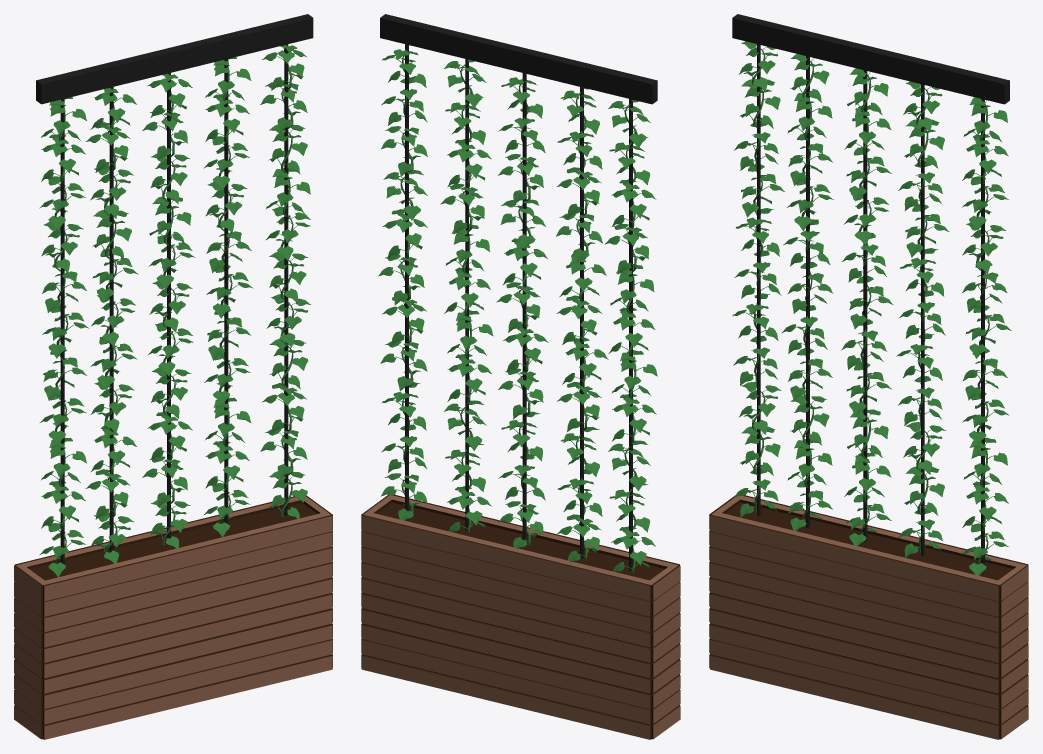
The model's file is LowVineWallDivider.fbx.
The picture shows the model from 3 angles, left to right: view 1: azimuth 30°, elevation 25°; view 2: azimuth 150°, elevation 25°; view 3: azimuth 330°, elevation 25°; orthographic projection.
Visible parts, largest first — view 1: polySurface2345; view 2: polySurface2345; view 3: polySurface2345.
Part boxes in pixels (x1,y1,x2,y2): polySurface2345: (14, 14, 332, 739); polySurface2345: (361, 14, 680, 739); polySurface2345: (709, 14, 1028, 739).
Size of the model in its own units: 81.47 by 172 by 14.37.
